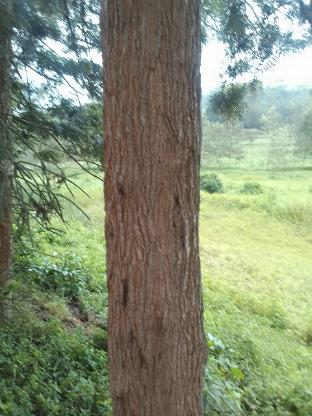tree: (88, 0, 217, 415)
